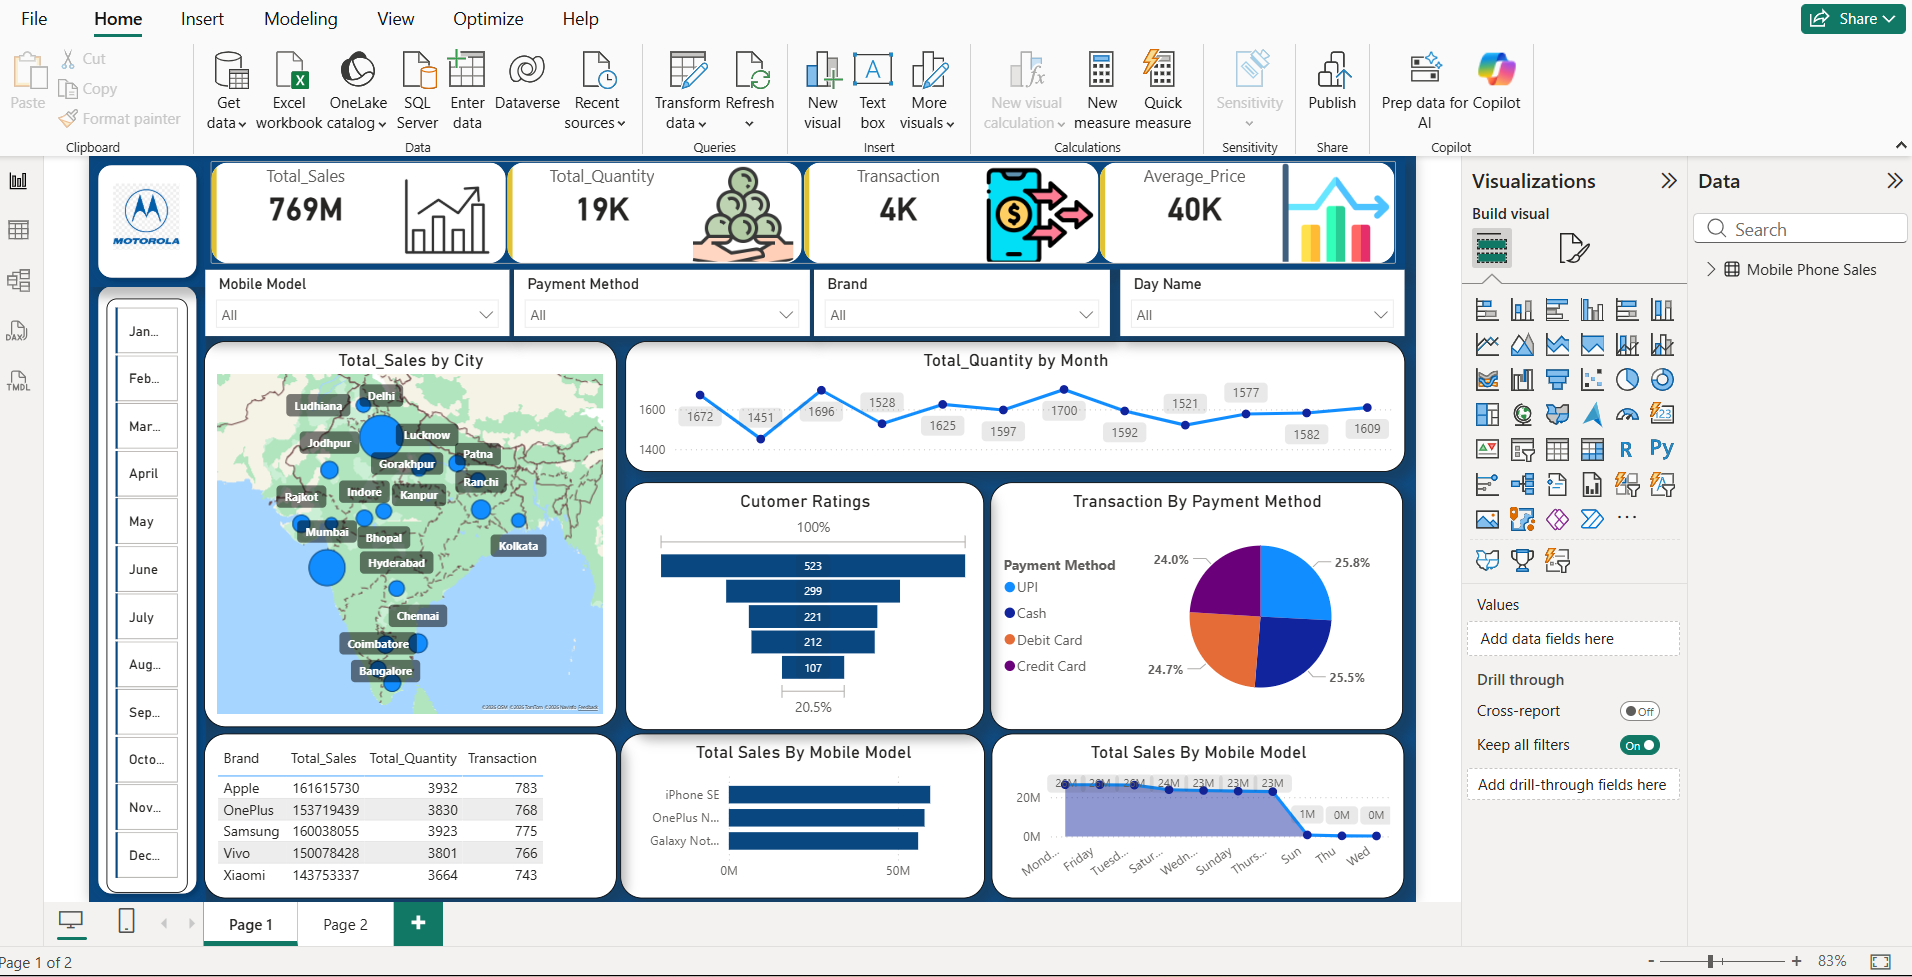

This screenshot's page, from the dashboard's own definition file:
{"tool":"powerbi","page":{"name":"Page 1","canvas":[1280,720],"ordinal":0},"visuals":[{"type":"shape","box":[0,116.6,112.5,603.8],"z":0},{"type":"shape","box":[0,0,112.5,126.2],"z":1000},{"type":"image","box":[16.5,22,76.8,74.1],"z":2000},{"type":"advancedSlicerVisual","fields":{"Values":["Sheet1.Date.Variation.Date Hierarchy.Month"]},"box":[16.5,137.2,78.2,573.6],"z":3000},{"type":"cardVisual","fields":{"Data":["Mobile Phone Sales.Total_Sales","Mobile Phone Sales.Total_Quantity","Mobile Phone Sales.ot_Transaction","Mobile Phone Sales.Avg_Price"]},"box":[111.3,0,1159,109.9],"z":4000},{"type":"azureMap","fields":{"Category":["Mobile Phone Sales.City"],"Size":["Mobile Phone Sales.Total_Sales"]},"box":[111,178.6,398.1,372.8],"z":5000},{"type":"lineChart","fields":{"Y":["Mobile Phone Sales.Total_Quantity"],"Category":["Mobile Phone Sales.Date.Variation.Date Hierarchy.Month","Mobile Phone Sales.Date.Variation.Date Hierarchy.Day"]},"box":[517.6,178.6,752.8,126.7],"z":6000},{"type":"barChart","title":"Total Sales By Mobile Model","fields":{"Category":["Mobile Phone Sales.Mobile Model"],"Y":["Mobile Phone Sales.Total_Sales"]},"box":[513,557.1,352.3,159.3],"z":7000},{"type":"pieChart","title":"Transaction By Payment Method","fields":{"Y":["Mobile Phone Sales.Transaction"],"Category":["Mobile Phone Sales.Payment Method"]},"box":[869.4,314.6,398.1,238.9],"z":8000},{"type":"funnel","title":"Cutomer Ratings","fields":{"Category":["Mobile Phone Sales.Customer Ratings"],"Y":["CountNonNull(Mobile Phone Sales.Customer Ratings)"]},"box":[517.1,314.6,346.2,238.9],"z":9000},{"type":"areaChart","title":"Total Sales By Mobile Model","fields":{"Y":["Mobile Phone Sales.Total_Sales"],"Category":["Mobile Phone Sales.Day Name"]},"box":[871.3,557.1,398.1,159.3],"z":10000},{"type":"tableEx","fields":{"Values":["Mobile Phone Sales.Brand","Mobile Phone Sales.Total_Sales","Mobile Phone Sales.Total_Quantity","Mobile Phone Sales.Transaction"]},"box":[111.2,557.1,398.1,159.3],"z":11000},{"type":"slicer","fields":{"Values":["Mobile Phone Sales.Mobile Model"]},"box":[112.7,109.9,293.6,64],"z":12000},{"type":"slicer","fields":{"Values":["Mobile Phone Sales.Payment Method"]},"box":[410.4,109.9,285.2,64],"z":13000},{"type":"slicer","fields":{"Values":["Mobile Phone Sales.Brand"]},"box":[699.8,109.9,285.2,64],"z":14000},{"type":"slicer","fields":{"Values":["Mobile Phone Sales.Day Name"]},"box":[994.8,109.9,274.1,64],"z":15000}]}

Visuals, with their boxes on the page's 1280x720 design canvas (x1, y1, x2, y2). These are canvas units, not pixel positions in the 1912x977 screenshot, which may show the page scaled, cropped or inside an application window:
shape: pyautogui.locateOnScreen(0, 117, 112, 720)
shape: pyautogui.locateOnScreen(0, 0, 112, 126)
image: pyautogui.locateOnScreen(16, 22, 93, 96)
advancedSlicerVisual - Sheet1.Date.Variation.Date Hierarchy.Month: pyautogui.locateOnScreen(16, 137, 95, 711)
cardVisual - Mobile Phone Sales.Total_Sales x Mobile Phone Sales.Total_Quantity: pyautogui.locateOnScreen(111, 0, 1270, 110)
azureMap - Mobile Phone Sales.City x Mobile Phone Sales.Total_Sales: pyautogui.locateOnScreen(111, 179, 509, 551)
lineChart - Mobile Phone Sales.Total_Quantity x Mobile Phone Sales.Date.Variation.Date Hierarchy.Month: pyautogui.locateOnScreen(518, 179, 1270, 305)
"Total Sales By Mobile Model" barChart: pyautogui.locateOnScreen(513, 557, 865, 716)
"Transaction By Payment Method" pieChart: pyautogui.locateOnScreen(869, 315, 1268, 554)
"Cutomer Ratings" funnel: pyautogui.locateOnScreen(517, 315, 863, 554)
"Total Sales By Mobile Model" areaChart: pyautogui.locateOnScreen(871, 557, 1269, 716)
tableEx - Mobile Phone Sales.Brand x Mobile Phone Sales.Total_Sales: pyautogui.locateOnScreen(111, 557, 509, 716)
slicer - Mobile Phone Sales.Mobile Model: pyautogui.locateOnScreen(113, 110, 406, 174)
slicer - Mobile Phone Sales.Payment Method: pyautogui.locateOnScreen(410, 110, 696, 174)
slicer - Mobile Phone Sales.Brand: pyautogui.locateOnScreen(700, 110, 985, 174)
slicer - Mobile Phone Sales.Day Name: pyautogui.locateOnScreen(995, 110, 1269, 174)
